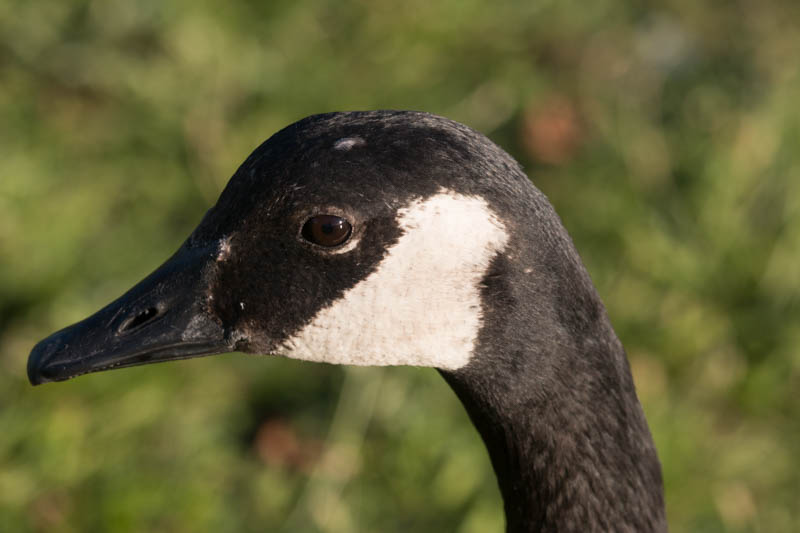goose-head: (27, 110, 597, 386)
